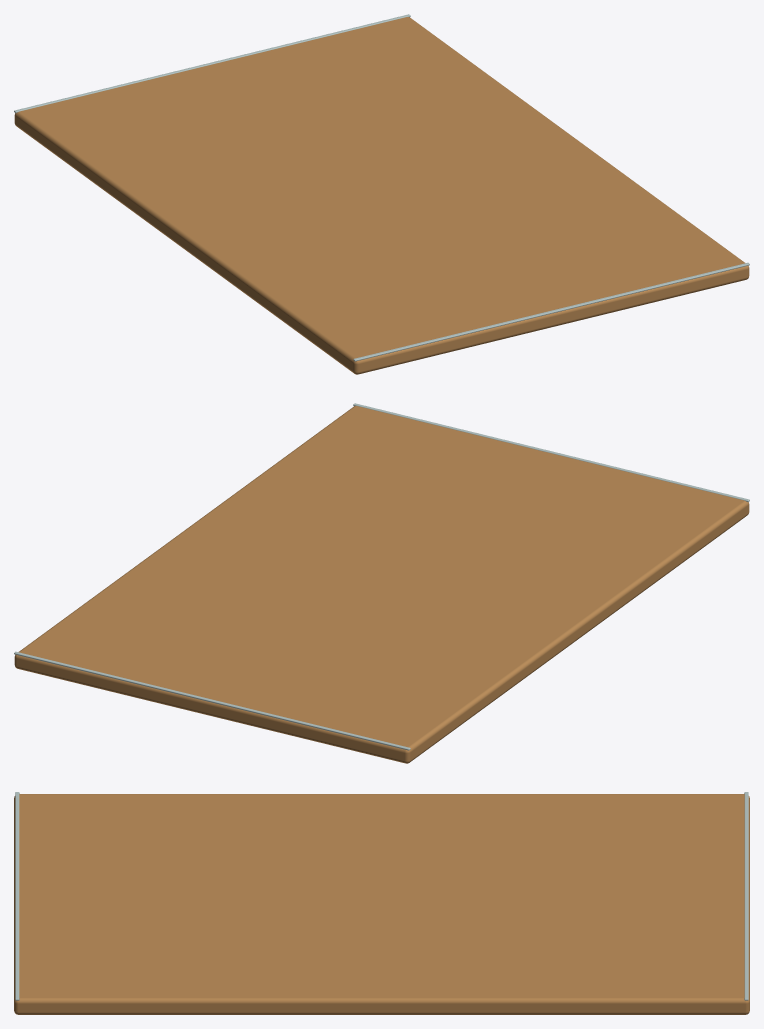
File: trolley-shelf.glb
3 renders of one model, top to bottom at view 1: azimuth 30°, elevation 25°; view 2: azimuth 150°, elevation 25°; view 3: azimuth 270°, elevation 25°, orthographic. The views are drawn at different scales.
Visible parts, largest first — view 1: wood, steel; view 2: wood, steel; view 3: wood, steel.
Part boxes in pixels (x1,y1,x2,y2): wood: [14, 17, 749, 374]; steel: [14, 14, 749, 361]; wood: [14, 406, 749, 763]; steel: [14, 403, 749, 750]; wood: [14, 794, 749, 1014]; steel: [15, 792, 748, 1000].
Size of the model in its own units: 8 by 0.3125 by 12.
